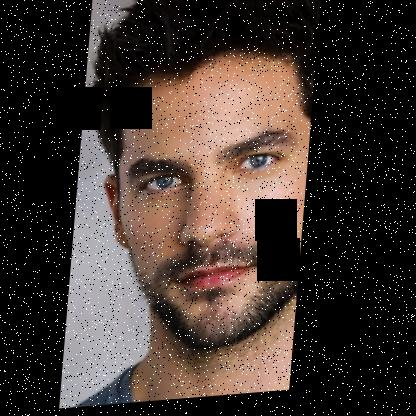Male: (97, 51, 317, 357)
